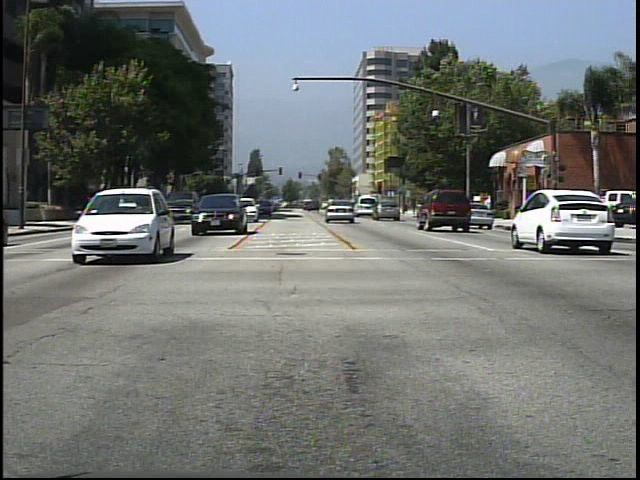person: (440, 192, 458, 226), (479, 192, 498, 224)
